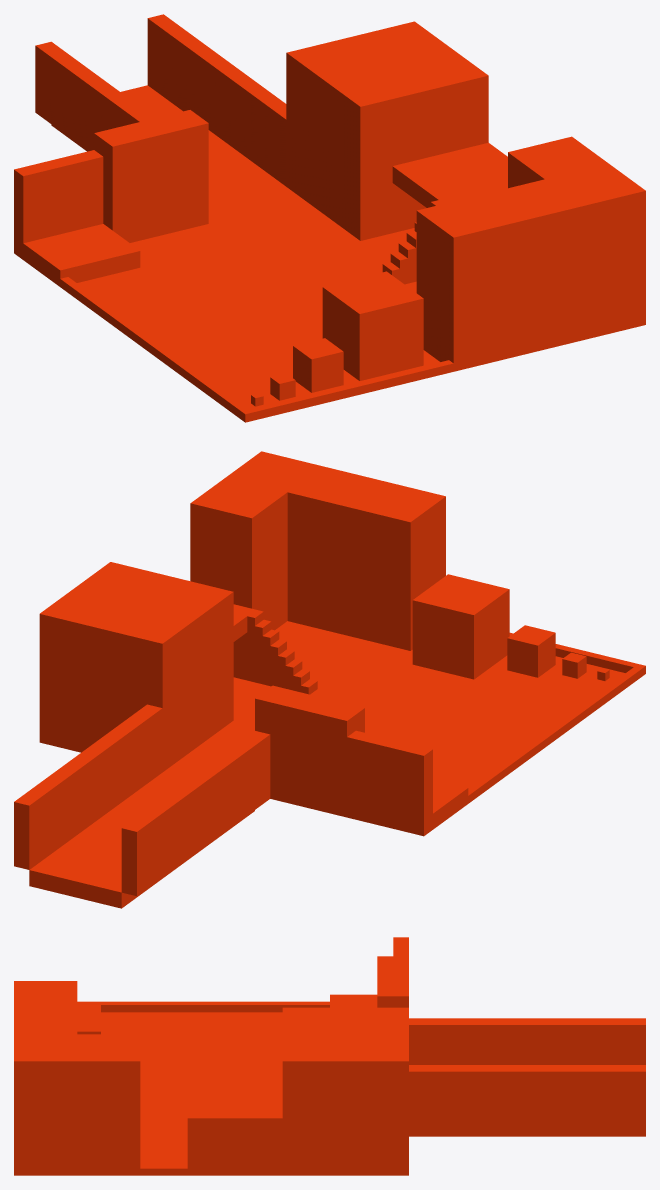
The model's file is DebugRoom_20240309_Colli.fbx.
3 renders of one model, top to bottom at view 1: azimuth 30°, elevation 25°; view 2: azimuth 150°, elevation 25°; view 3: azimuth 270°, elevation 25°, orthographic. The views are drawn at different scales.
Visible parts, largest first — view 1: CollisionMap; view 2: CollisionMap; view 3: CollisionMap.
Boxes of the visible parts, <box> form: CollisionMap: <box>14,14,645,422</box>; CollisionMap: <box>14,451,645,908</box>; CollisionMap: <box>14,937,645,1175</box>.
Size of the model in its own units: 5 by 1.8 by 8.
